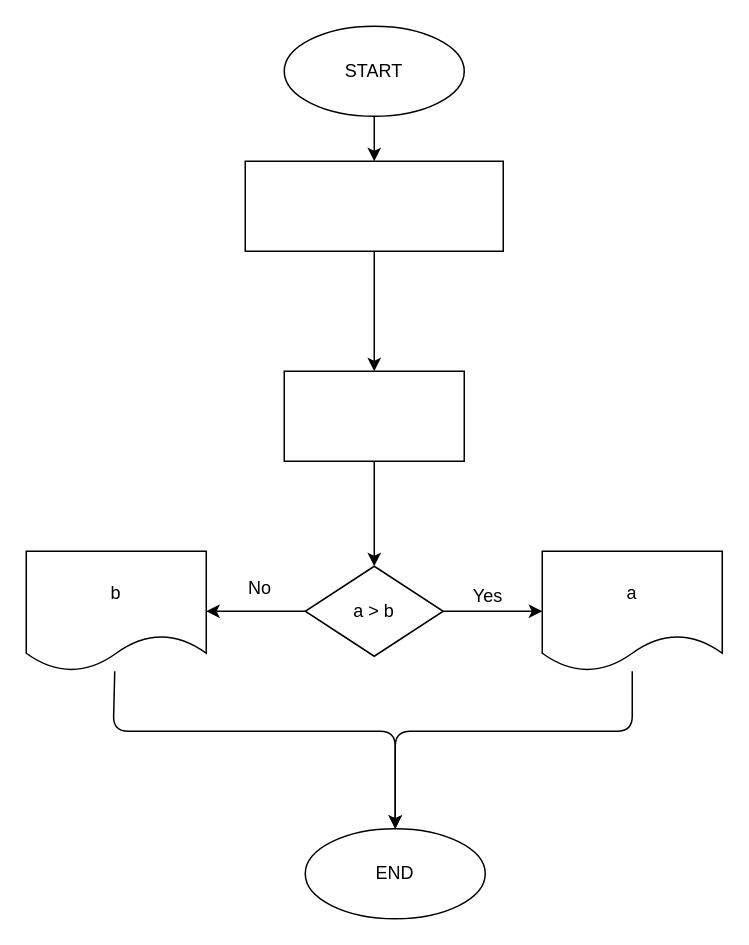
The diagram is 749 pixels wide and 945 high, and some of its shapes have lost their labels. The box of each missing label's shape, as (x1, y1, x2, y2) in pixels:
a = div 10 b = mod 10: (283, 370, 464, 461)
val = Random (10, 100): (244, 160, 503, 251)
